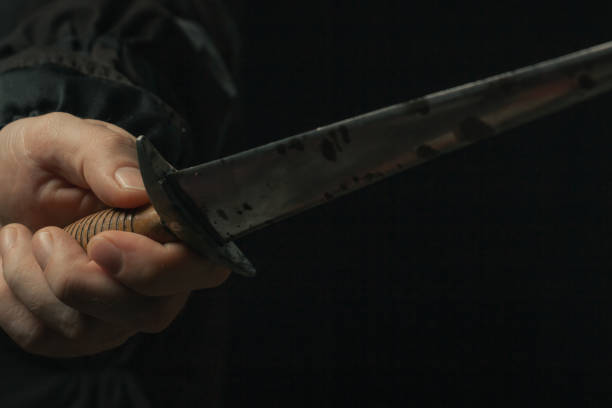knife: (61, 38, 612, 283)
